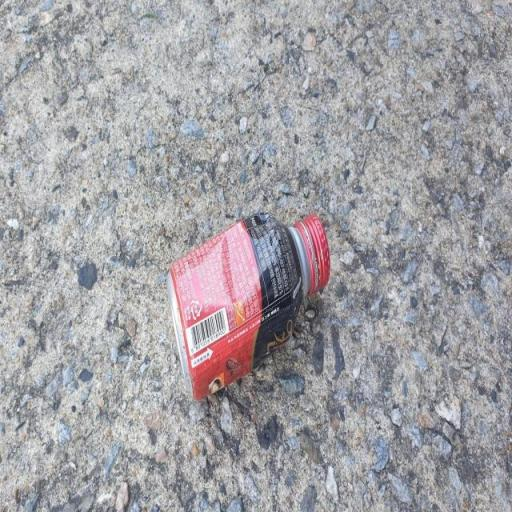metal: (150, 192, 346, 434)
